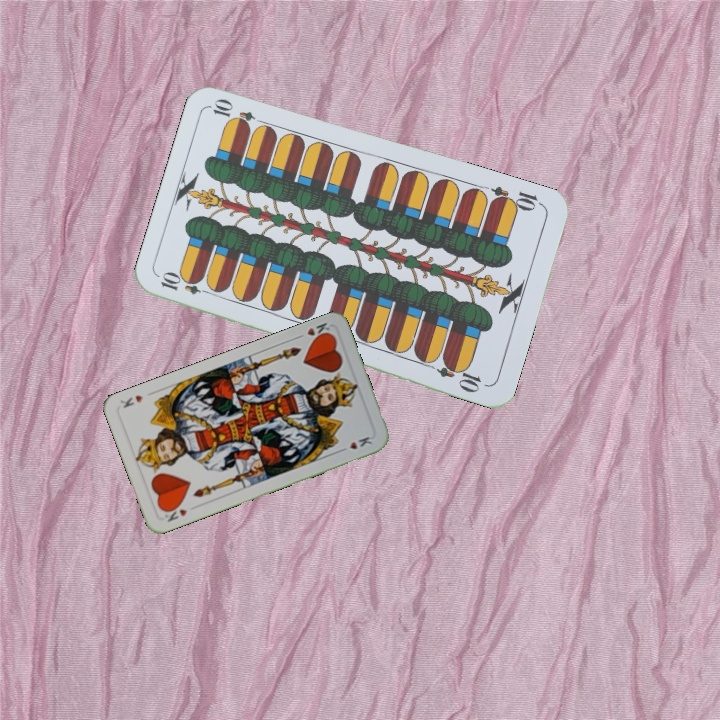E10: (486, 182, 546, 214), (157, 270, 215, 298)
HK: (293, 318, 334, 343), (160, 501, 190, 524)
